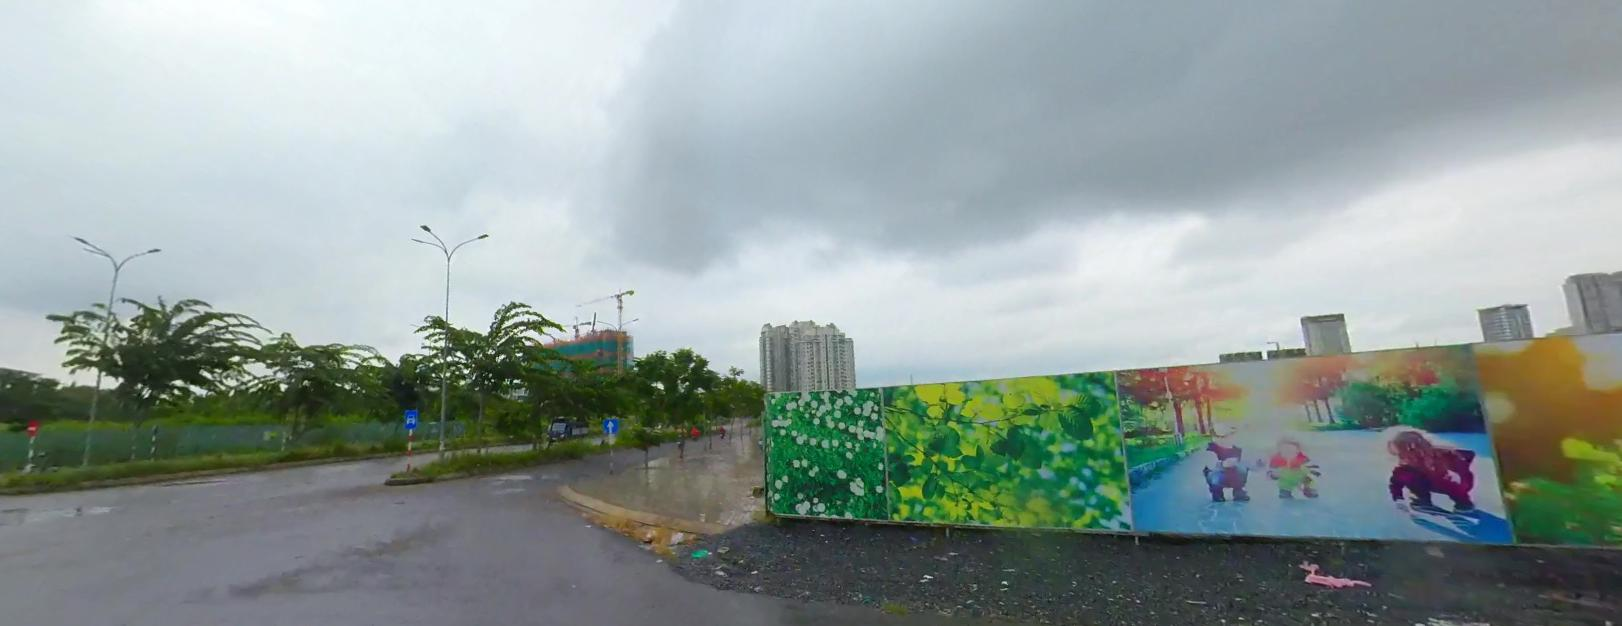Cam nguoc chieu: (26, 418, 37, 434)
